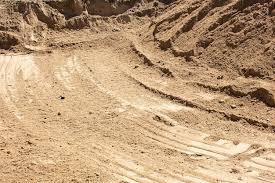sand: (99, 113, 136, 135), (187, 110, 223, 132), (118, 43, 152, 64)
